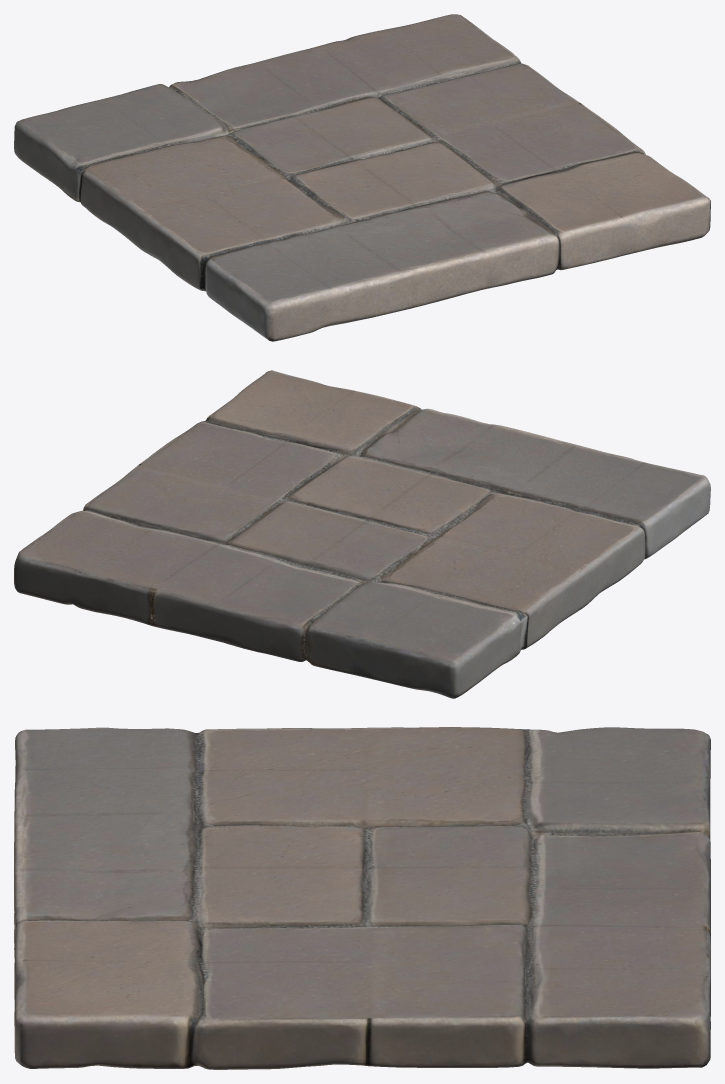
The picture shows the model from 3 angles, top to bottom: view 1: azimuth 30°, elevation 25°; view 2: azimuth 150°, elevation 25°; view 3: azimuth 270°, elevation 25°; orthographic projection. The views are drawn at different scales.
Visible parts, largest first — view 1: Mesh1.0; view 2: Mesh1.0; view 3: Mesh1.0.
Boxes of the visible parts, x1,y1,x2,y2 form: Mesh1.0: (14,14,710,341); Mesh1.0: (14,370,710,698); Mesh1.0: (14,727,710,1069).
Size of the model in its own units: 201 by 17.97 by 200.
Materials: 1 (1 with a texture image).
